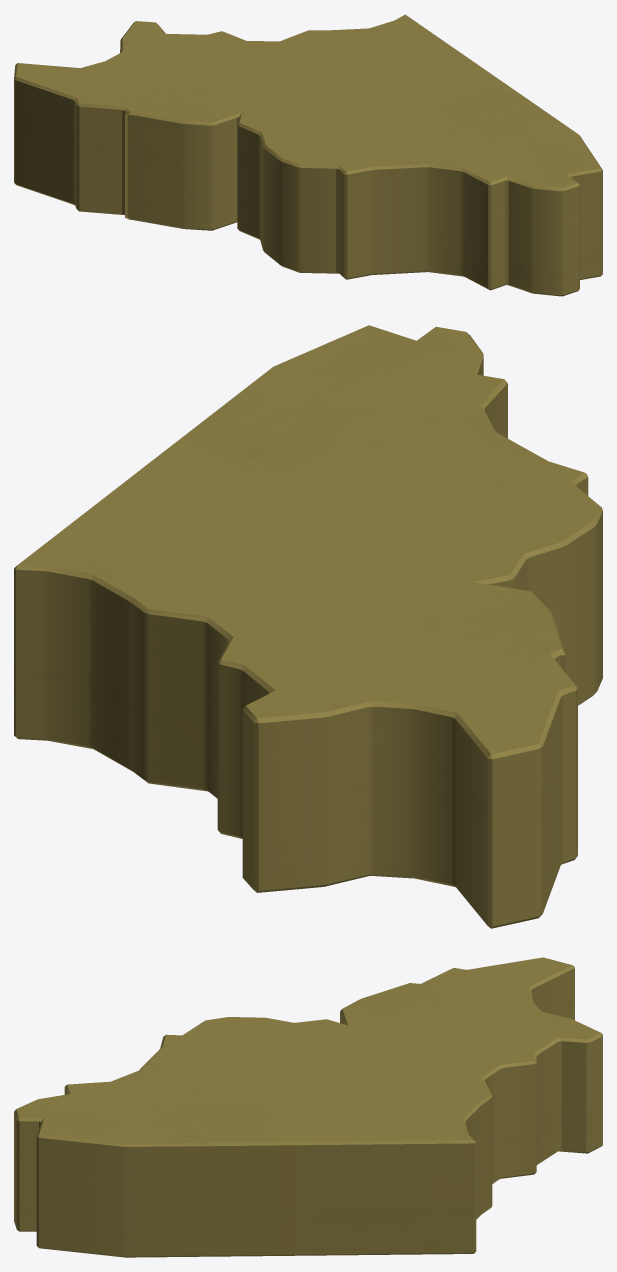
Rendered from persia.DAE.
3 views of the same model, one above another, from view 1: azimuth 30°, elevation 25°; view 2: azimuth 150°, elevation 25°; view 3: azimuth 270°, elevation 25° (orthographic). The views are drawn at different scales.
Visible parts, largest first — view 1: Persia; view 2: Persia; view 3: Persia.
Boxes of the visible parts, x1,y1,x2,y2 form: Persia: [14, 14, 602, 296]; Persia: [14, 325, 602, 928]; Persia: [14, 957, 602, 1257].
Size of the model in its own units: 88.61 by 117 by 25.
1 material, 1 textured.
